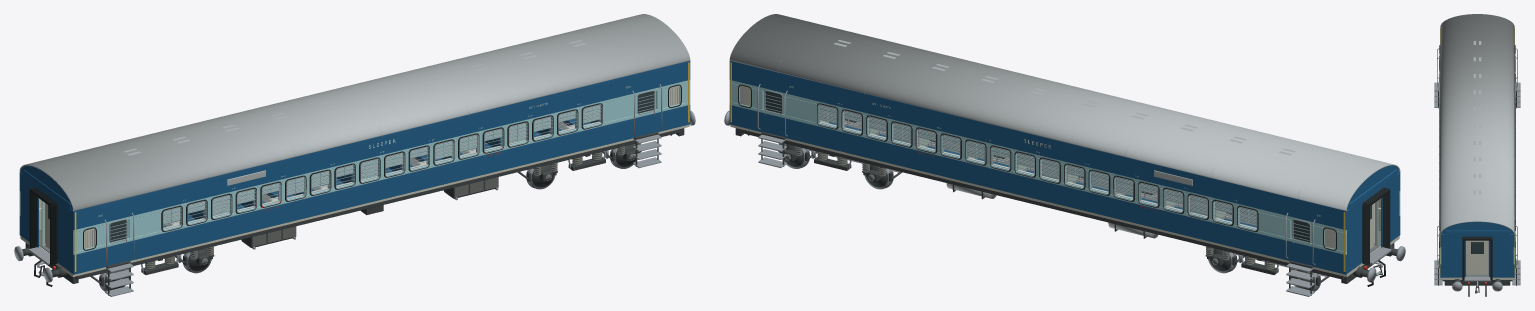
Rendered from icf_sleeper_interior_v02.fbx.
3 views of the same model, side by side, from view 1: azimuth 30°, elevation 25°; view 2: azimuth 150°, elevation 25°; view 3: azimuth 270°, elevation 25° (orthographic). The views are drawn at different scales.
Parts seen in each view (by area): view 1: ICF compound-curved roof shell, Lower blue bodyside, Upper blue letterboard, Longitudinal solebar, Lower cyan band, Floor, Upper cyan band, Coach end wall, Coach end wall.001, Window pier.002, Window pier.020, End upper arch panel (+1 smaller); view 2: ICF compound-curved roof shell, Lower blue bodyside.001, Upper blue letterboard.001, Longitudinal solebar.001, Lower cyan band.001, Floor, Upper cyan band.001, Coach end wall.001, Coach end wall, Window pier.024, Window pier.042, Interior finished floor (+2 smaller); view 3: ICF compound-curved roof shell, Coach end wall.002, Coach end wall.003, Vestibule recessed inner door.001, End upper arch panel.001, Curved roof end cap.001, Buffer beam.001, Gangway tread plate.001, Vestibule door glazing.001, Floor, Gangway bellows fold.026, Gangway bellows fold.027 (+4 smaller).
Boxes of the visible parts, bbox=[...] form: ICF compound-curved roof shell: bbox=[19, 14, 690, 211]; Lower blue bodyside: bbox=[73, 105, 690, 274]; Upper blue letterboard: bbox=[73, 60, 690, 230]; Longitudinal solebar: bbox=[75, 128, 683, 279]; Lower cyan band: bbox=[73, 102, 690, 254]; Floor: bbox=[20, 124, 689, 276]; Upper cyan band: bbox=[73, 80, 690, 232]; Coach end wall: bbox=[57, 206, 73, 274]; Coach end wall.001: bbox=[20, 172, 38, 247]; Window pier.002: bbox=[128, 211, 161, 238]; Window pier.020: bbox=[600, 96, 633, 122]; End upper arch panel: bbox=[23, 169, 70, 214]; ICF compound-curved roof shell: bbox=[729, 14, 1400, 211]; Lower blue bodyside.001: bbox=[729, 105, 1346, 274]; Upper blue letterboard.001: bbox=[729, 60, 1346, 230]; Longitudinal solebar.001: bbox=[736, 128, 1344, 279]; Lower cyan band.001: bbox=[729, 102, 1346, 254]; Floor: bbox=[730, 124, 1399, 276]; Upper cyan band.001: bbox=[729, 80, 1346, 232]; Coach end wall.001: bbox=[1346, 206, 1362, 274]; Coach end wall: bbox=[1381, 172, 1399, 247]; Window pier.024: bbox=[1258, 211, 1291, 238]; Window pier.042: bbox=[786, 96, 819, 122]; Interior finished floor: bbox=[845, 120, 1380, 253]; ICF compound-curved roof shell: bbox=[1440, 14, 1514, 234]; Coach end wall.002: bbox=[1441, 234, 1465, 277]; Coach end wall.003: bbox=[1489, 234, 1513, 277]; Vestibule recessed inner door.001: bbox=[1467, 240, 1487, 274]; End upper arch panel.001: bbox=[1444, 230, 1510, 238]; Curved roof end cap.001: bbox=[1441, 222, 1513, 233]; Buffer beam.001: bbox=[1444, 280, 1510, 285]; Gangway tread plate.001: bbox=[1464, 276, 1490, 281]; Vestibule door glazing.001: bbox=[1471, 242, 1483, 253]; Floor: bbox=[1441, 277, 1513, 279]; Gangway bellows fold.026: bbox=[1462, 239, 1464, 280]; Gangway bellows fold.027: bbox=[1490, 239, 1492, 280].
Bounding box in the file's own units: 376 × 2230 × 405.
